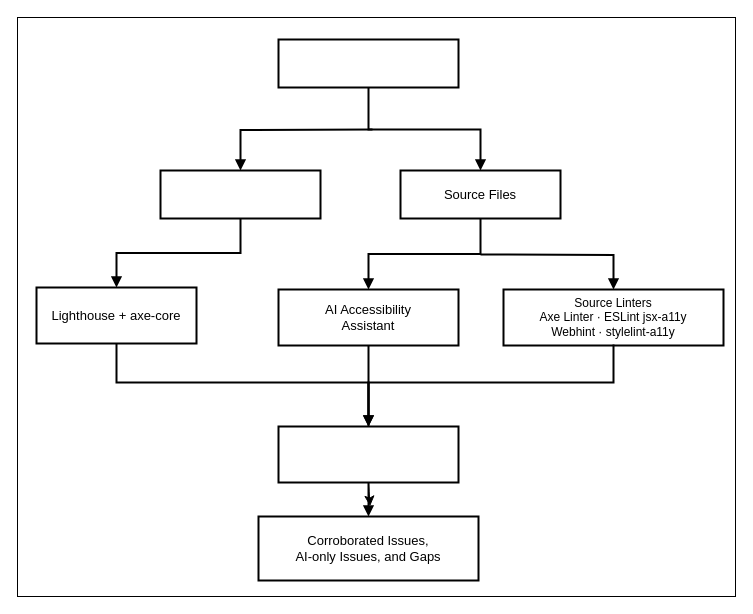
The diagram is 753 pixels wide and 614 high, and some of its shapes have lost their labels. The shapes that lost their labels are listed below. From the top down, each one's centre as x and y in pixels, then its label:
point (368, 63): Defective Website
point (240, 194): Rendered Page
point (368, 454): Issue Category Alignment
